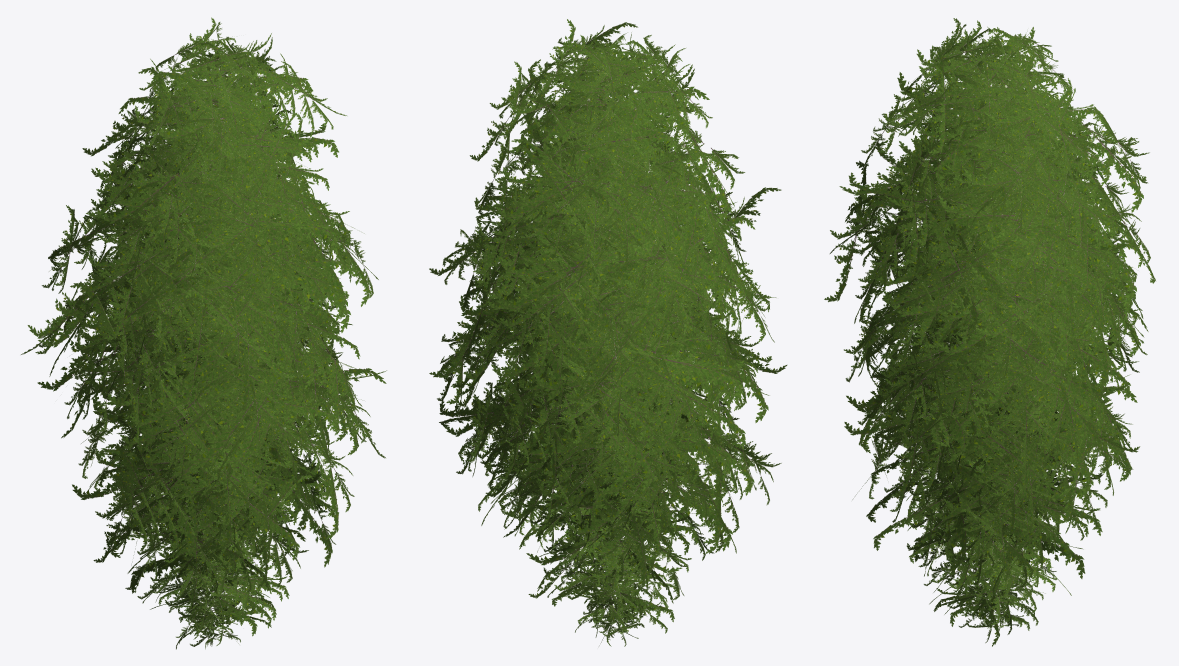
The model's file is birch_leaf.glb.
3 renders of one model, left to right at view 1: azimuth 30°, elevation 25°; view 2: azimuth 150°, elevation 25°; view 3: azimuth 270°, elevation 25°, orthographic.
Parts seen in each view (by area): view 1: birch_c, birch_c_l1, birch_c_l2, birch_a, birch_a_l2, birch_a_l1, birch_b_l2, birch_b, birch_b_l1, birch_sap_b, birch_sap_b_l2, birch_sap_b_l1 (+3 smaller); view 2: birch_c, birch_c_l1, birch_a_l2, birch_c_l2, birch_a, birch_a_l1, birch_b_l2, birch_b, birch_b_l1, birch_sap_b, birch_sap_b_l1, birch_sap_b_l2 (+2 smaller); view 3: birch_c_l2, birch_c, birch_c_l1, birch_a, birch_a_l2, birch_a_l1, birch_b_l2, birch_b, birch_b_l1, birch_sap_b_l2, birch_sap_b, birch_sap_b_l1 (+3 smaller).
Boxes of the visible parts, <box> form: birch_c: <box>42,33,373,578</box>; birch_c_l1: <box>49,23,361,554</box>; birch_c_l2: <box>48,17,386,567</box>; birch_a: <box>39,116,358,599</box>; birch_a_l2: <box>21,109,360,557</box>; birch_a_l1: <box>35,98,366,613</box>; birch_b_l2: <box>37,189,350,615</box>; birch_b: <box>71,170,365,592</box>; birch_b_l1: <box>86,169,362,592</box>; birch_sap_b: <box>143,492,274,629</box>; birch_sap_b_l2: <box>149,497,289,643</box>; birch_sap_b_l1: <box>137,502,282,625</box>; birch_c: <box>440,25,776,575</box>; birch_c_l1: <box>437,30,781,582</box>; birch_a_l2: <box>429,97,771,592</box>; birch_c_l2: <box>429,19,787,553</box>; birch_a: <box>458,105,762,575</box>; birch_a_l1: <box>480,97,772,562</box>; birch_b_l2: <box>456,182,754,603</box>; birch_b: <box>465,185,746,592</box>; birch_b_l1: <box>470,175,747,599</box>; birch_sap_b: <box>546,494,676,628</box>; birch_sap_b_l1: <box>543,502,681,637</box>; birch_sap_b_l2: <box>528,490,693,622</box>; birch_c_l2: <box>824,18,1149,571</box>; birch_c: <box>842,27,1147,568</box>; birch_c_l1: <box>830,20,1147,576</box>; birch_a: <box>843,102,1150,576</box>; birch_a_l2: <box>846,98,1155,582</box>; birch_a_l1: <box>845,99,1141,584</box>; birch_b_l2: <box>852,171,1137,595</box>; birch_b: <box>866,185,1139,577</box>; birch_b_l1: <box>871,187,1143,585</box>; birch_sap_b_l2: <box>929,489,1071,646</box>; birch_sap_b: <box>924,504,1056,626</box>; birch_sap_b_l1: <box>931,505,1056,634</box>.
Size of the model in its own units: 10.86 by 19.42 by 9.79.
1 material, 1 textured.
